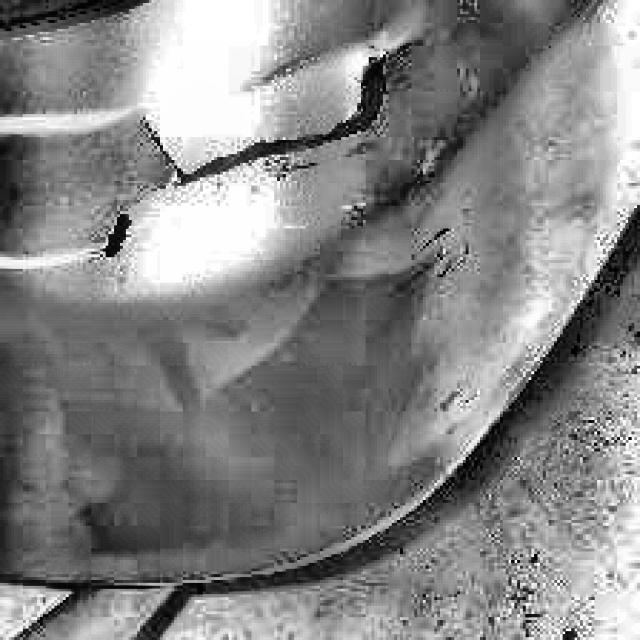bumper_dent: (116, 62, 306, 286)
bumper_scratch: (143, 74, 400, 183), (88, 208, 142, 262)
